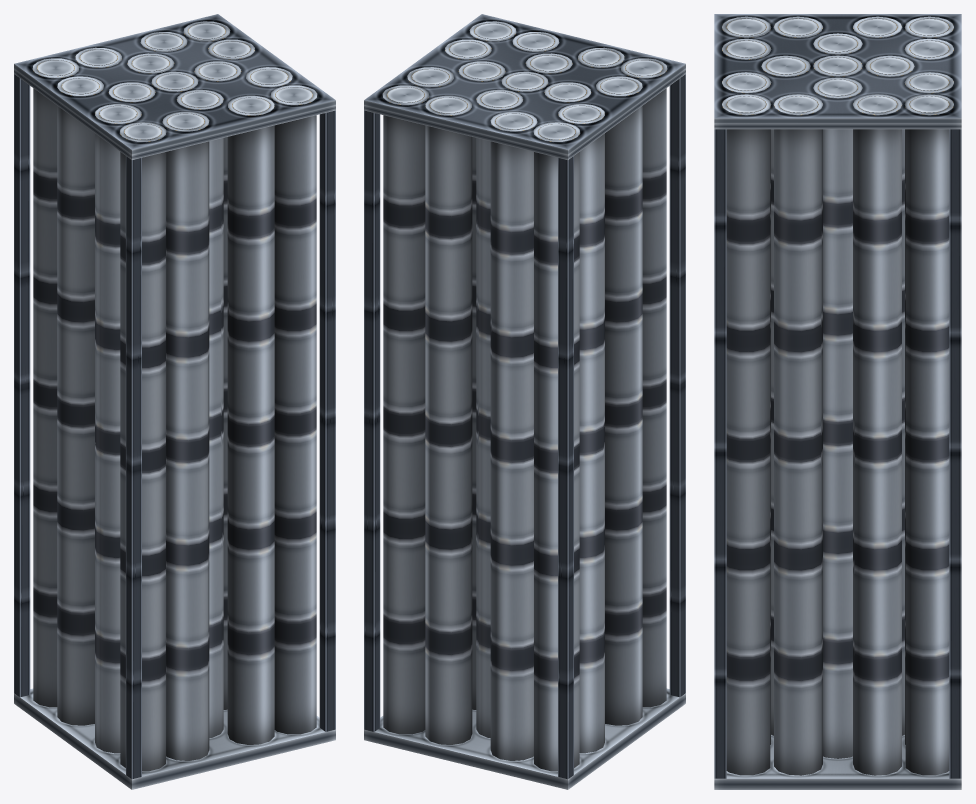
The model's file is suz_combined.obj.
The picture shows the model from 3 angles, left to right: view 1: azimuth 30°, elevation 25°; view 2: azimuth 150°, elevation 25°; view 3: azimuth 270°, elevation 25°; orthographic projection. The views are drawn at different scales.
Visible parts, largest first — view 1: suz_frame, suz_rods; view 2: suz_frame, suz_rods; view 3: suz_frame, suz_rods.
Boxes of the visible parts, x1,y1,x2,y2 form: suz_frame: [14, 21, 335, 789]; suz_rods: [14, 14, 335, 155]; suz_frame: [364, 21, 685, 789]; suz_rods: [364, 14, 685, 154]; suz_frame: [714, 16, 961, 789]; suz_rods: [714, 14, 961, 123].
Bounding box in the file's own units: 1 × 3 × 1.
